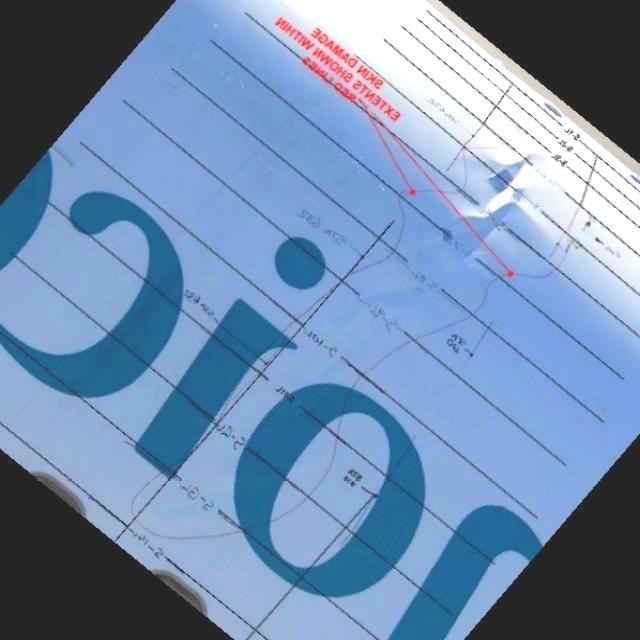dent: (430, 191, 530, 272), (324, 278, 445, 332), (481, 108, 553, 195)
